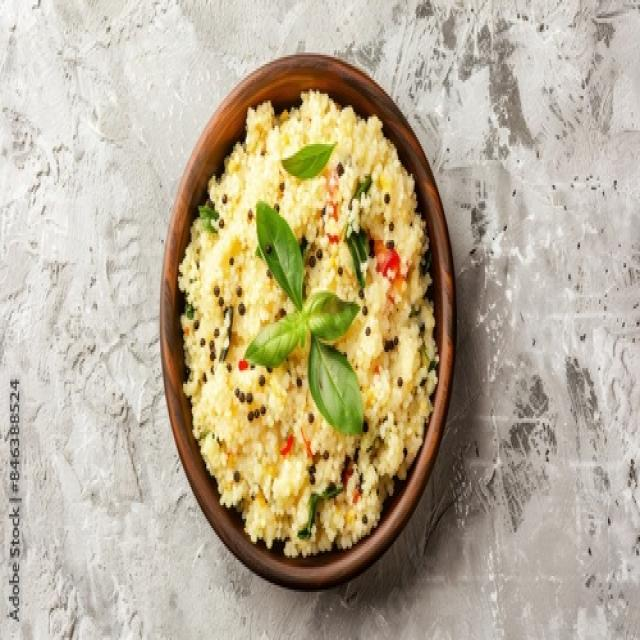UPMA: (188, 102, 429, 536)
